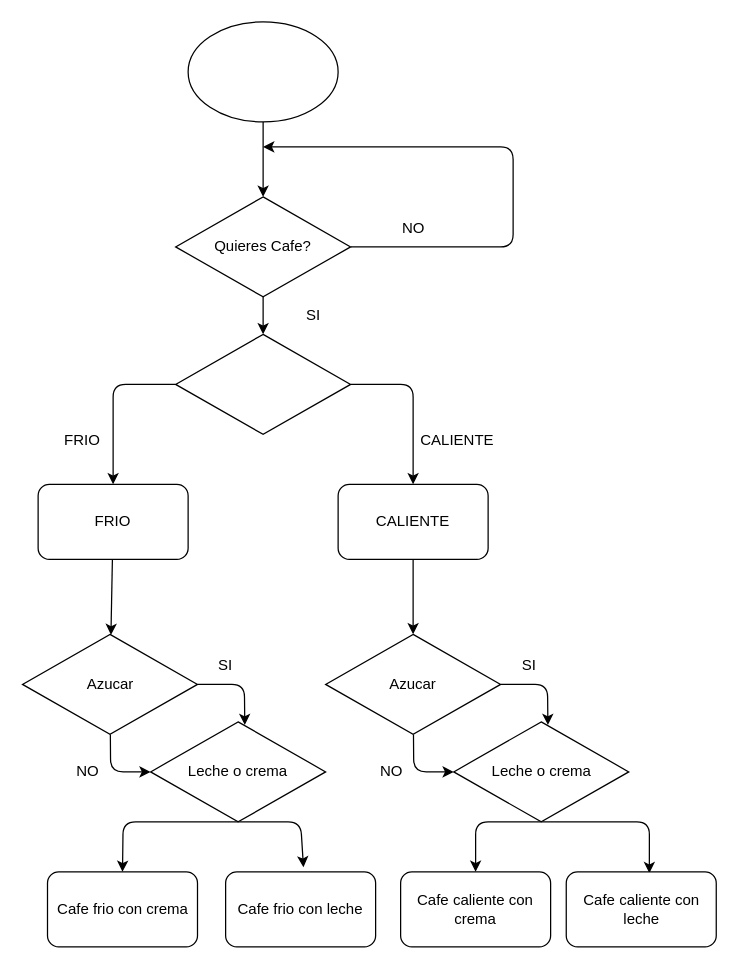
Image size: 738x969. Some labels were removed from this diagram. The shapes that lost their labels are listed below. From the top down, each one's centre as x and y in pixels, then its label:
At (x=262, y=71): "Inicio".
At (x=262, y=383): "Caliente o frio".
